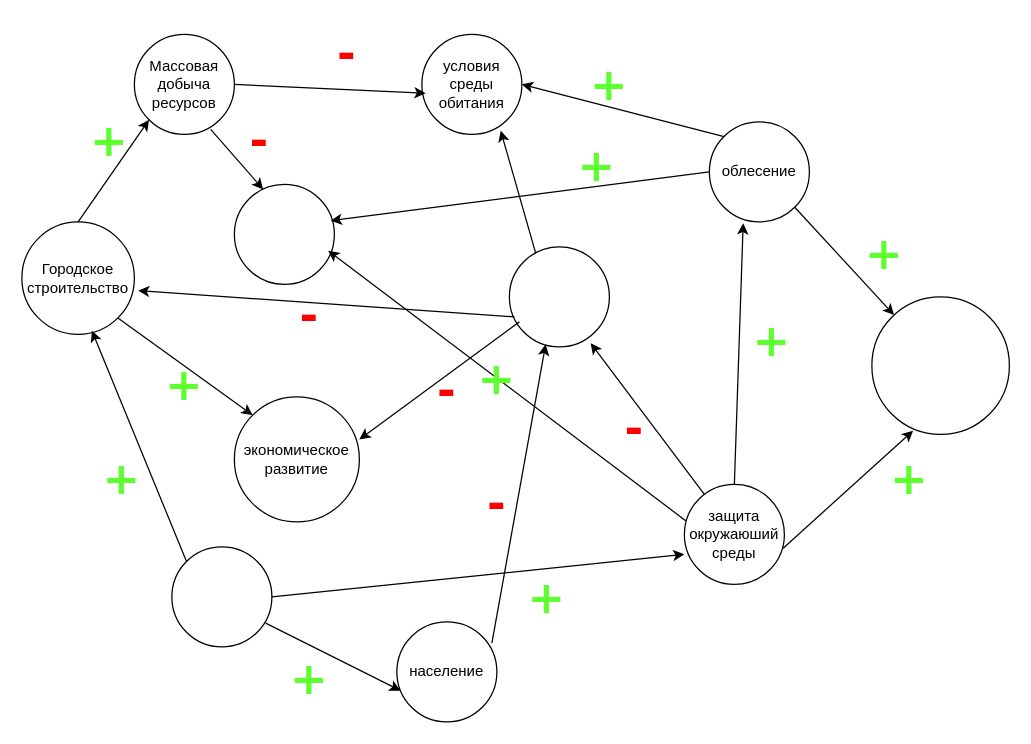
The diagram is 1031 pixels wide and 744 high, and some of its shapes have lost their labels. Each missing label, with the centre of its shape:
"биоразнообразие" goes at [940,365].
"окружающая среда" goes at [283,233].
"Природа катастрофа" goes at [558,296].
"Развитие человеческой цивилизации" goes at [221,596].
